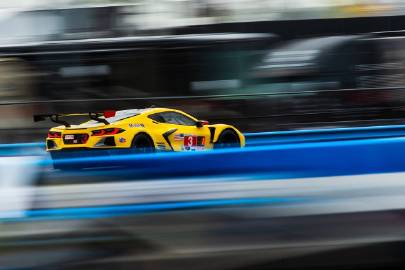other: (36, 105, 258, 174)
